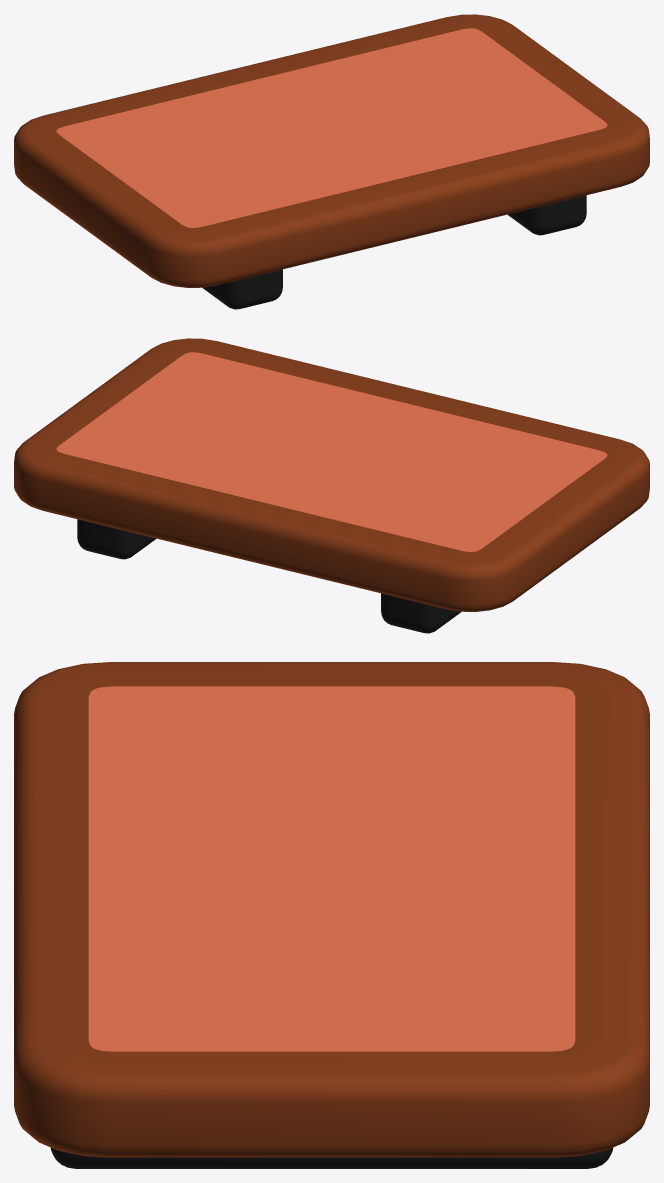
The model's file is istakozTabak.fbx.
3 views of the same model, one above another, from view 1: azimuth 30°, elevation 25°; view 2: azimuth 150°, elevation 25°; view 3: azimuth 270°, elevation 25° (orthographic). The views are drawn at different scales.
Visible parts, largest first — view 1: kalamarTabak.001; view 2: kalamarTabak.001; view 3: kalamarTabak.001.
Boxes of the visible parts, x1,y1,x2,y2 form: kalamarTabak.001: [14, 14, 649, 309]; kalamarTabak.001: [14, 338, 649, 633]; kalamarTabak.001: [14, 662, 649, 1168].
Bounding box in the file's own units: 103 × 17.03 × 64.34.
